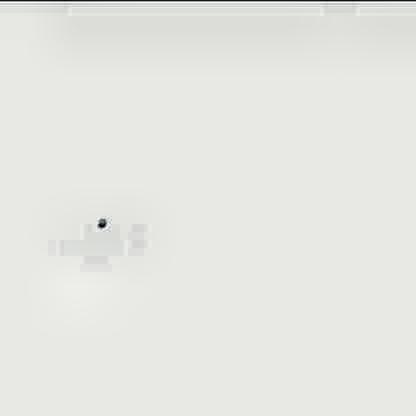golfball: (93, 215, 104, 226)
